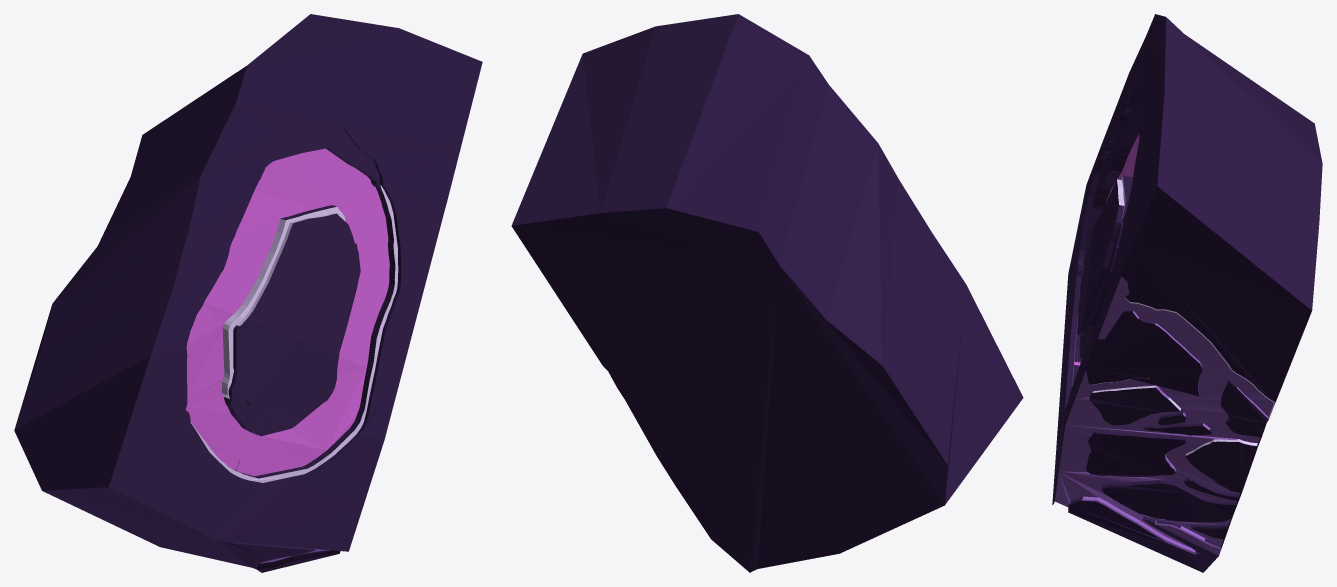
File: Ostone.fbx
The picture shows the model from 3 angles, left to right: view 1: azimuth 30°, elevation 25°; view 2: azimuth 150°, elevation 25°; view 3: azimuth 270°, elevation 25°; orthographic projection. The views are drawn at different scales.
Parts seen in each view (by area): view 1: pCube10; view 2: pCube10; view 3: pCube10.
Boxes of the visible parts, bbox=[...] form: pCube10: bbox=[14, 14, 482, 572]; pCube10: bbox=[511, 14, 1023, 572]; pCube10: bbox=[1052, 14, 1322, 572].
Size of the model in its own units: 1.35 by 1.71 by 0.7334.
Materials: 1 (1 with a texture image).
